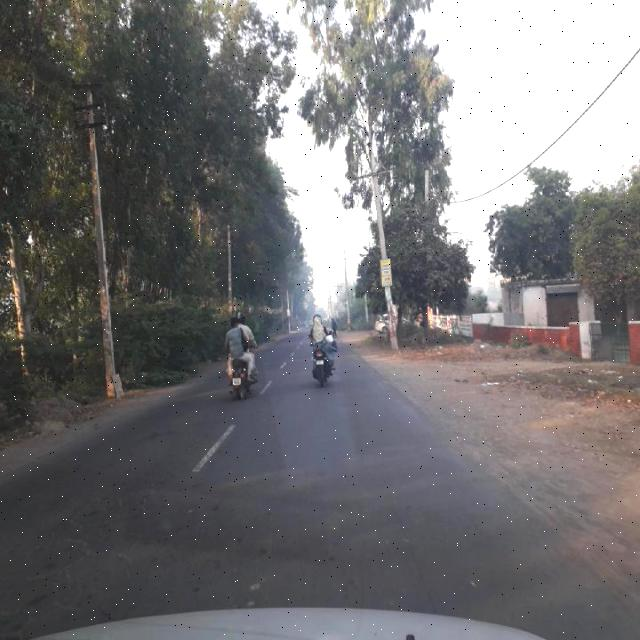D20: (54, 471, 150, 590)
